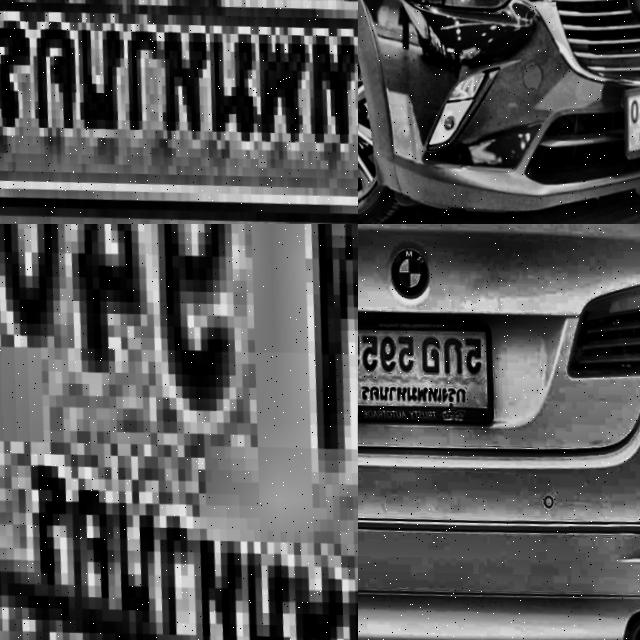license-plate: (0, 224, 358, 640), (0, 0, 358, 224), (358, 309, 493, 433), (610, 75, 640, 168)
